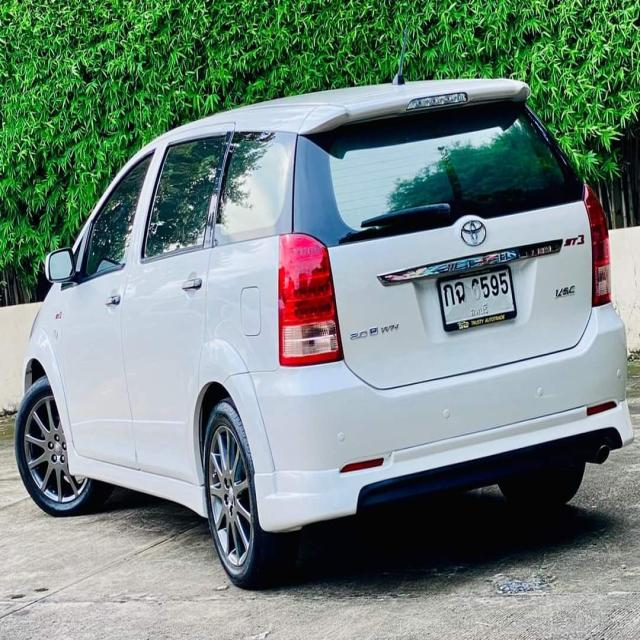license_plate: (429, 262, 524, 334)
